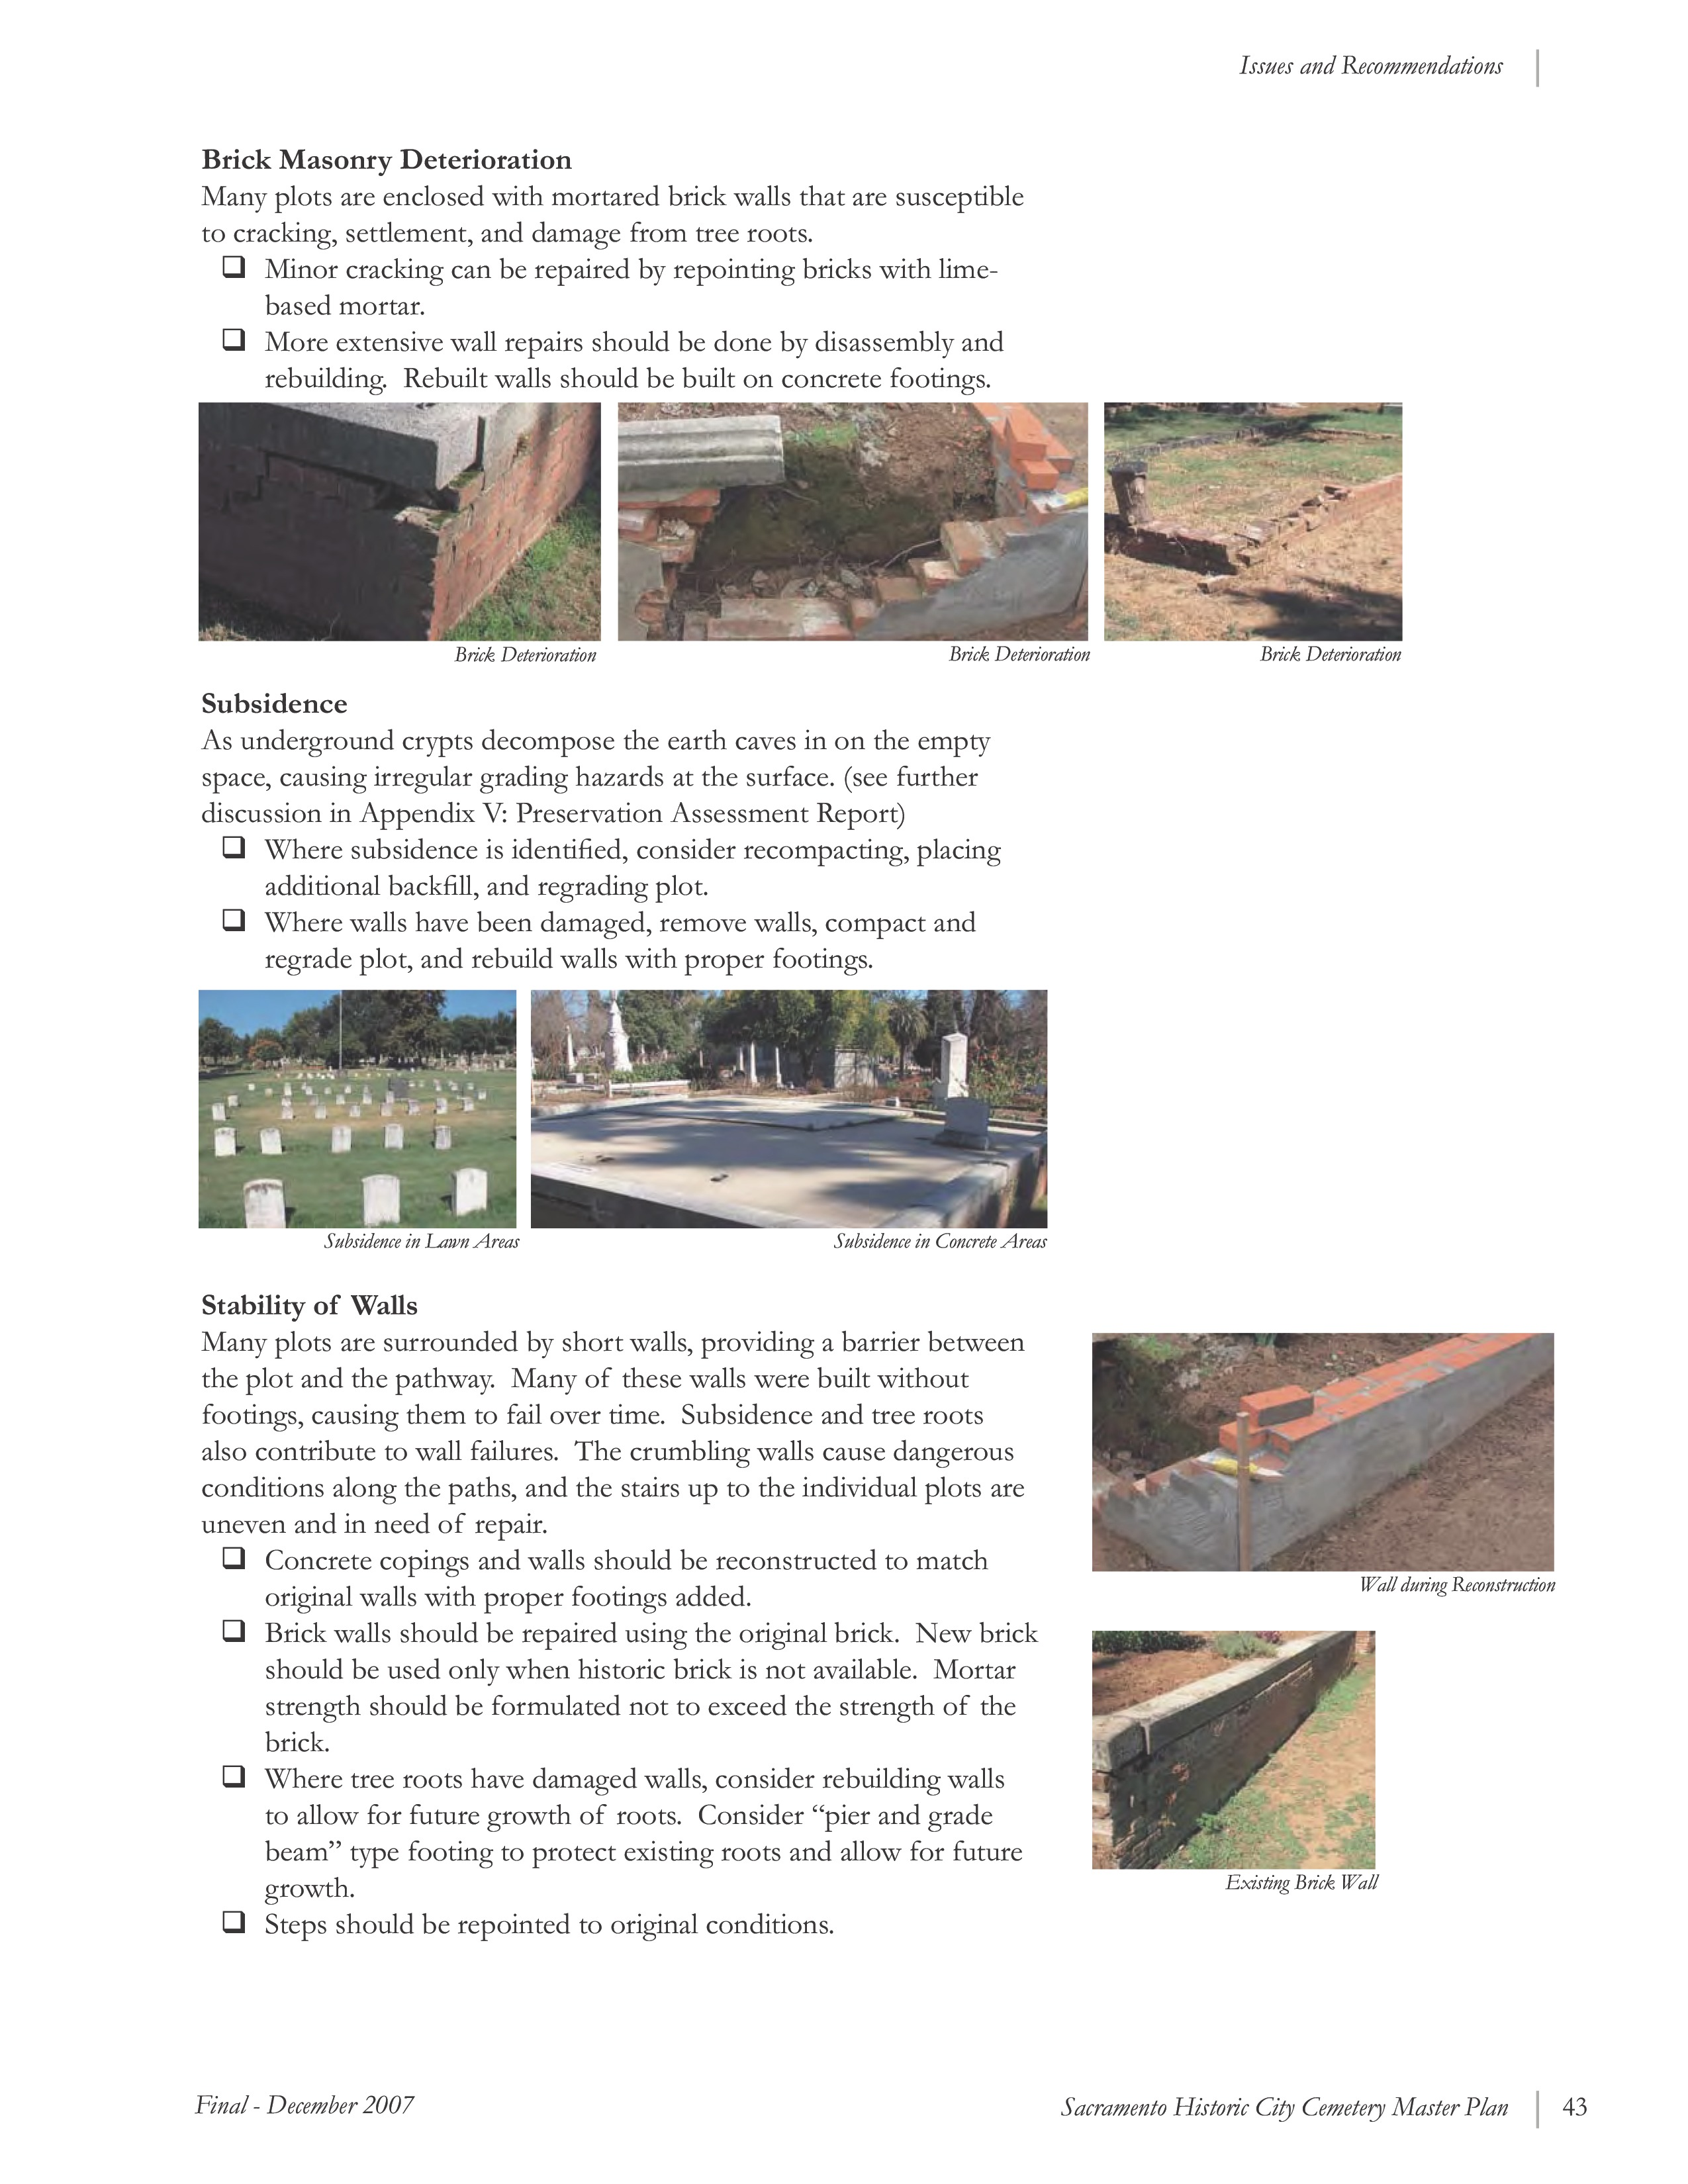caption: (1355, 1560, 1569, 1606), (1216, 1867, 1388, 1916), (317, 1232, 516, 1266), (837, 1225, 1044, 1255), (433, 642, 619, 674), (1246, 642, 1415, 674), (945, 638, 1099, 670), (945, 645, 1090, 674)
figure: (619, 399, 1085, 647), (543, 1002, 1055, 1225), (191, 397, 605, 663), (624, 406, 1087, 638), (1099, 1328, 1546, 1565), (199, 399, 605, 638), (202, 986, 505, 1236), (1103, 402, 1408, 635), (1094, 1638, 1374, 1870), (206, 1014, 498, 1220)
list: (209, 1542, 1032, 1954), (227, 830, 1014, 986), (211, 250, 998, 402)
section: (188, 133, 582, 186), (186, 1278, 433, 1324), (188, 684, 374, 723)
text: (183, 1335, 1048, 1542), (195, 730, 998, 826), (218, 186, 1035, 241)
